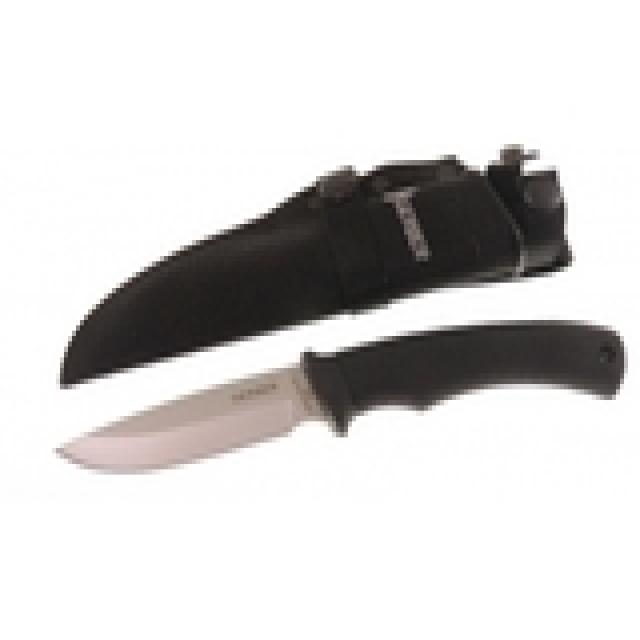Knife: (40, 304, 640, 544)
